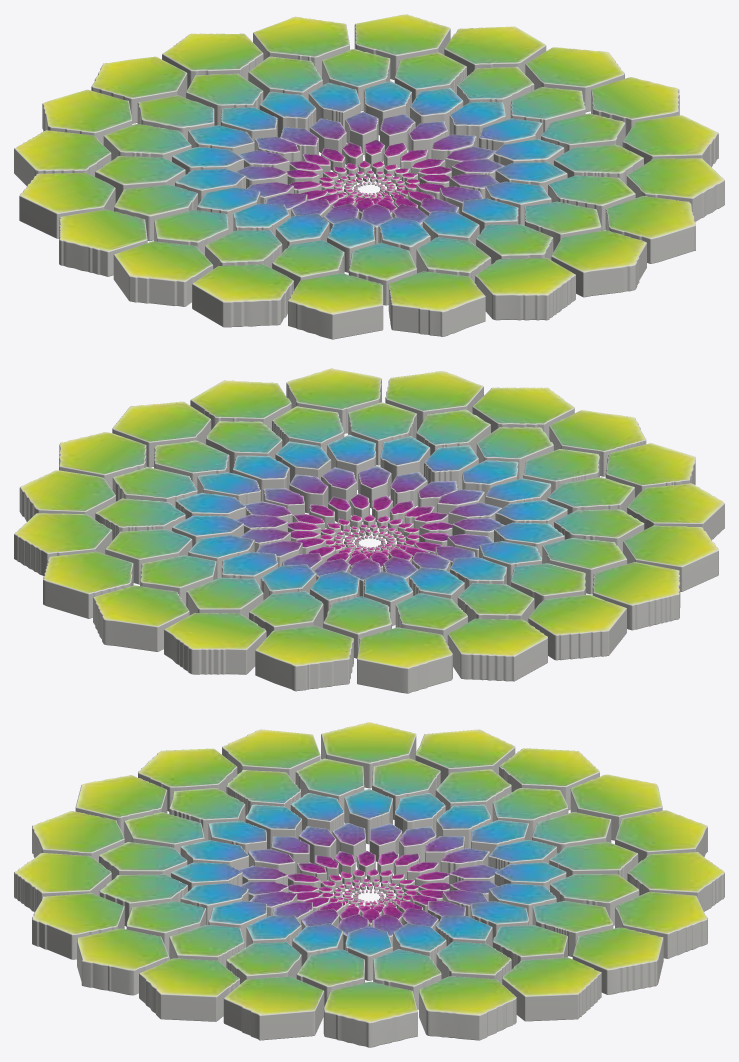
Rendered from green-teal-original.glb.
3 renders of one model, top to bottom at view 1: azimuth 30°, elevation 25°; view 2: azimuth 150°, elevation 25°; view 3: azimuth 270°, elevation 25°, orthographic.
Parts seen in each view (by area): view 1: green-teal-original | cell-013, green-teal-original | cell-011, green-teal-original | cell-012, green-teal-original | cell-010, green-teal-original | cell-014, green-teal-original | cell-009, green-teal-original | cell-015, green-teal-original | cell-008, green-teal-original | cell-016, green-teal-original | cell-007, green-teal-original | cell-017, green-teal-original | cell-002 (+65 smaller); view 2: green-teal-original | cell-019, green-teal-original | cell-017, green-teal-original | cell-018, green-teal-original | cell-020, green-teal-original | cell-016, green-teal-original | cell-001, green-teal-original | cell-015, green-teal-original | cell-002, green-teal-original | cell-014, green-teal-original | cell-003, green-teal-original | cell-013, green-teal-original | cell-004 (+65 smaller); view 3: green-teal-original | cell-006, green-teal-original | cell-004, green-teal-original | cell-005, green-teal-original | cell-003, green-teal-original | cell-007, green-teal-original | cell-002, green-teal-original | cell-008, green-teal-original | cell-009, green-teal-original | cell-001, green-teal-original | cell-010, green-teal-original | cell-020, green-teal-original | cell-015 (+65 smaller).
Boxes of the visible parts, x1,y1,x2,y2 form: green-teal-original | cell-013: (192, 264, 293, 327); green-teal-original | cell-011: (388, 271, 485, 336); green-teal-original | cell-012: (288, 273, 383, 339); green-teal-original | cell-010: (475, 258, 575, 320); green-teal-original | cell-014: (113, 241, 213, 306); green-teal-original | cell-009: (551, 230, 646, 297); green-teal-original | cell-015: (59, 209, 147, 276); green-teal-original | cell-008: (605, 196, 695, 263); green-teal-original | cell-016: (19, 172, 115, 238); green-teal-original | cell-007: (626, 158, 724, 221); green-teal-original | cell-017: (14, 130, 111, 185); green-teal-original | cell-002: (354, 14, 450, 80); green-teal-original | cell-019: (255, 625, 353, 691); green-teal-original | cell-017: (447, 618, 547, 681); green-teal-original | cell-018: (357, 627, 452, 693); green-teal-original | cell-020: (164, 612, 266, 674); green-teal-original | cell-016: (528, 594, 626, 660); green-teal-original | cell-001: (93, 585, 189, 651); green-teal-original | cell-015: (592, 562, 680, 630); green-teal-original | cell-002: (43, 551, 133, 618); green-teal-original | cell-014: (623, 525, 718, 591); green-teal-original | cell-003: (14, 513, 112, 576); green-teal-original | cell-013: (627, 483, 724, 540); green-teal-original | cell-004: (19, 470, 115, 521); green-teal-original | cell-006: (223, 976, 324, 1040); green-teal-original | cell-004: (419, 976, 516, 1040); green-teal-original | cell-005: (323, 981, 417, 1047); green-teal-original | cell-003: (502, 957, 601, 1021); green-teal-original | cell-007: (139, 958, 239, 1021); green-teal-original | cell-002: (572, 927, 663, 994); green-teal-original | cell-008: (77, 928, 168, 995); green-teal-original | cell-009: (32, 893, 124, 959); green-teal-original | cell-001: (615, 892, 707, 958); green-teal-original | cell-010: (14, 853, 111, 912); green-teal-original | cell-020: (627, 852, 724, 911); green-teal-original | cell-015: (321, 722, 416, 788).
Size of the model in its own units: 3.8 by 0.15 by 3.79.
Materials: 2 (1 with a texture image).
